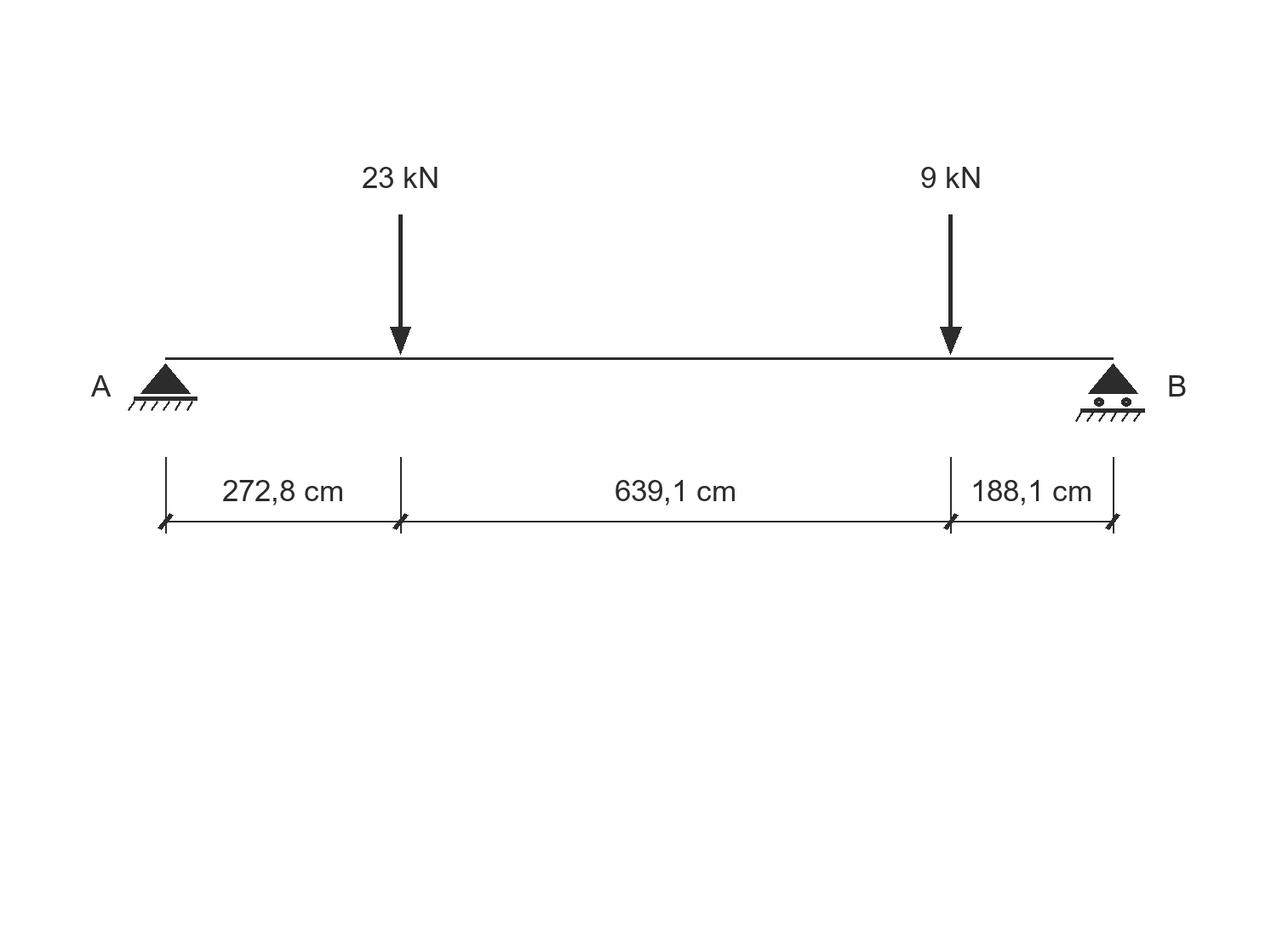pin_support: (128, 363, 198, 411)
point_load: (940, 214, 962, 355), (390, 214, 411, 355)
roller_support: (1075, 363, 1145, 422)
